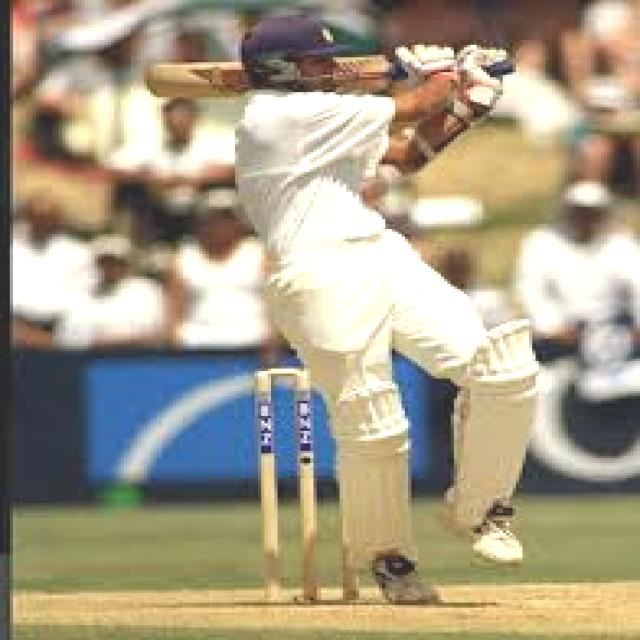toe: (146, 63, 166, 101)
